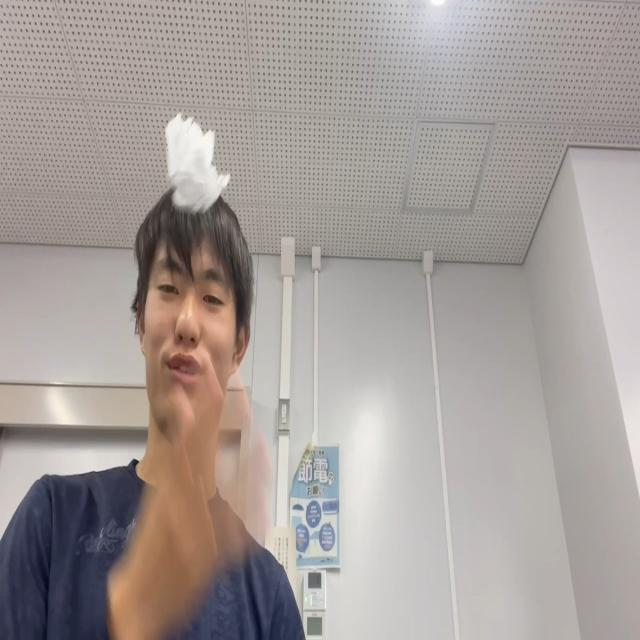paper: (164, 111, 230, 215)
